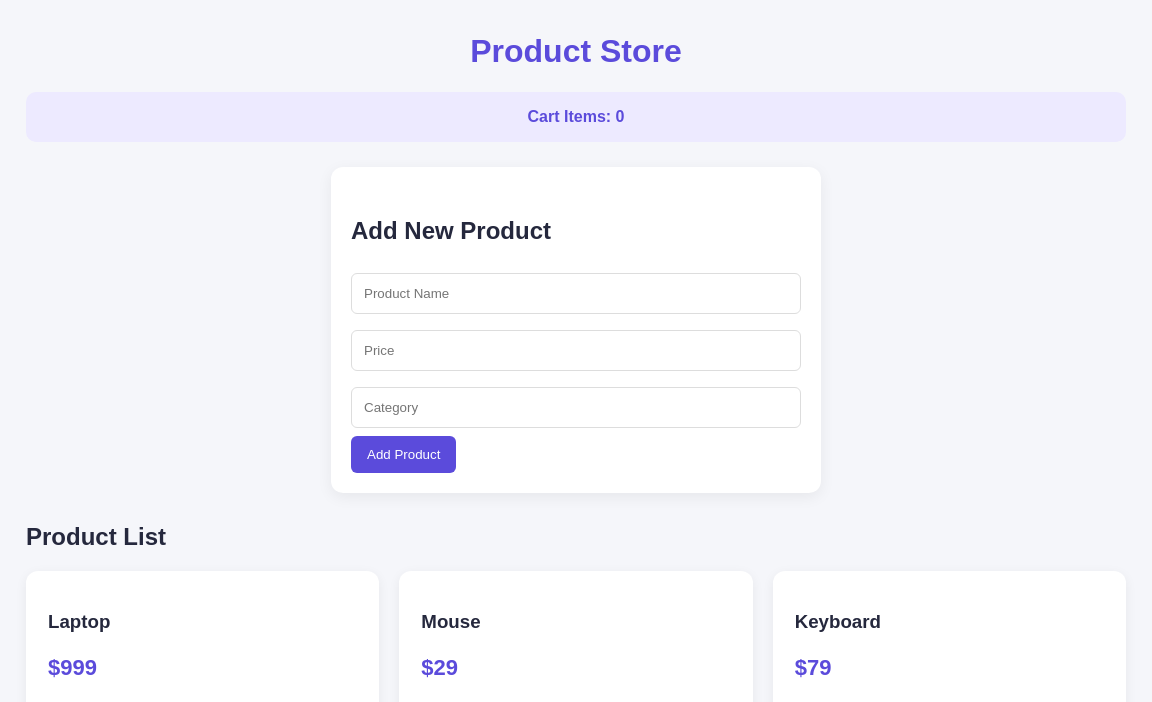
Test case: adds a product from the form
In the field with placeholder "Product Name": (576, 293) [351, 273, 801, 314], type "Monitor"
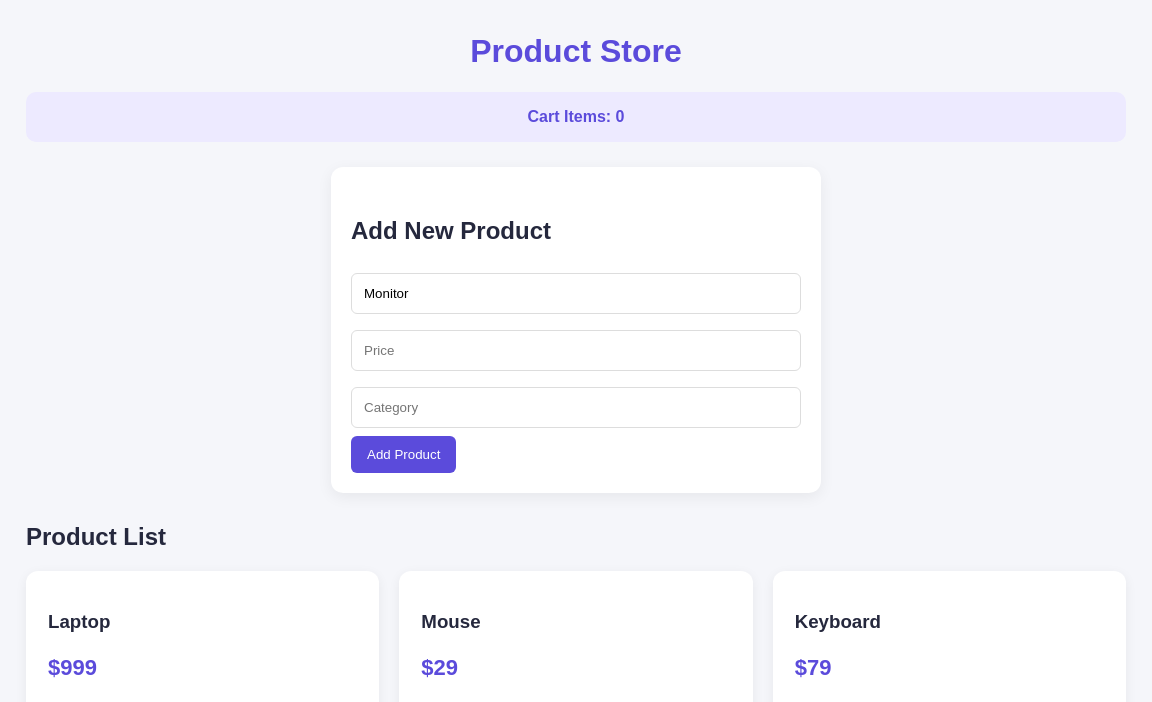
In the number field with placeholder "Price": (576, 350) [351, 330, 801, 371], type "249.99"
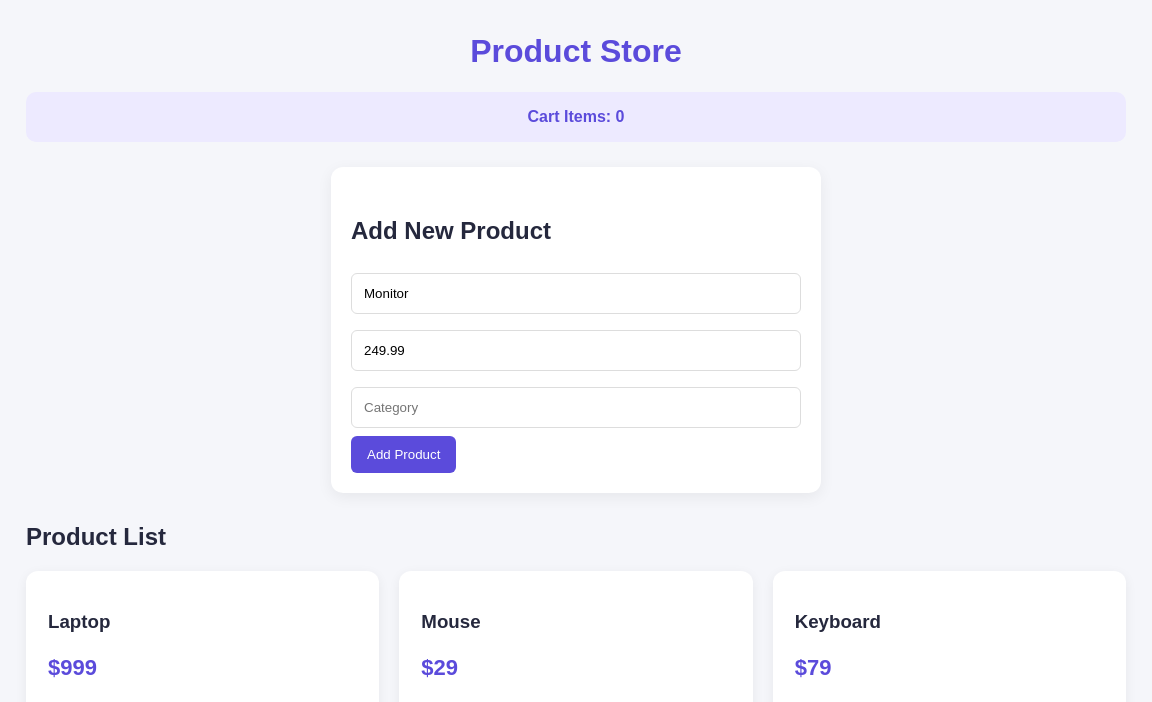
In the field with placeholder "Category": (576, 407) [351, 387, 801, 428], type "Electronics"
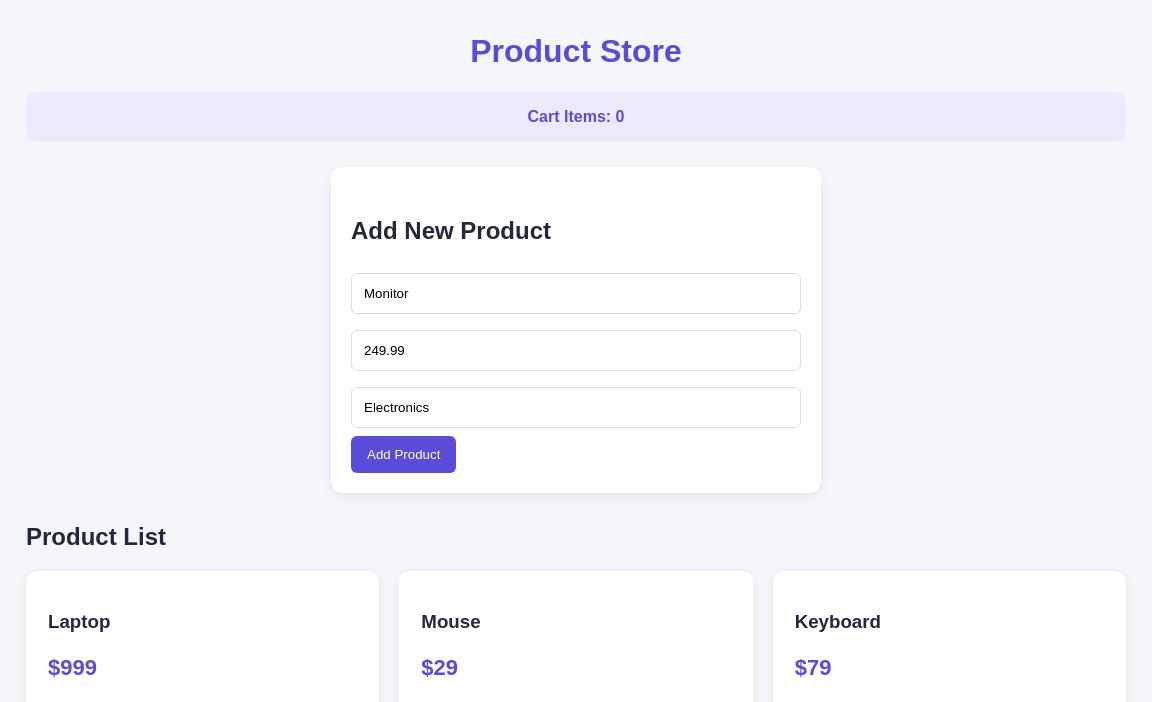
Click the button "Add Product": (404, 454) [351, 436, 456, 473]
(page scrolled)
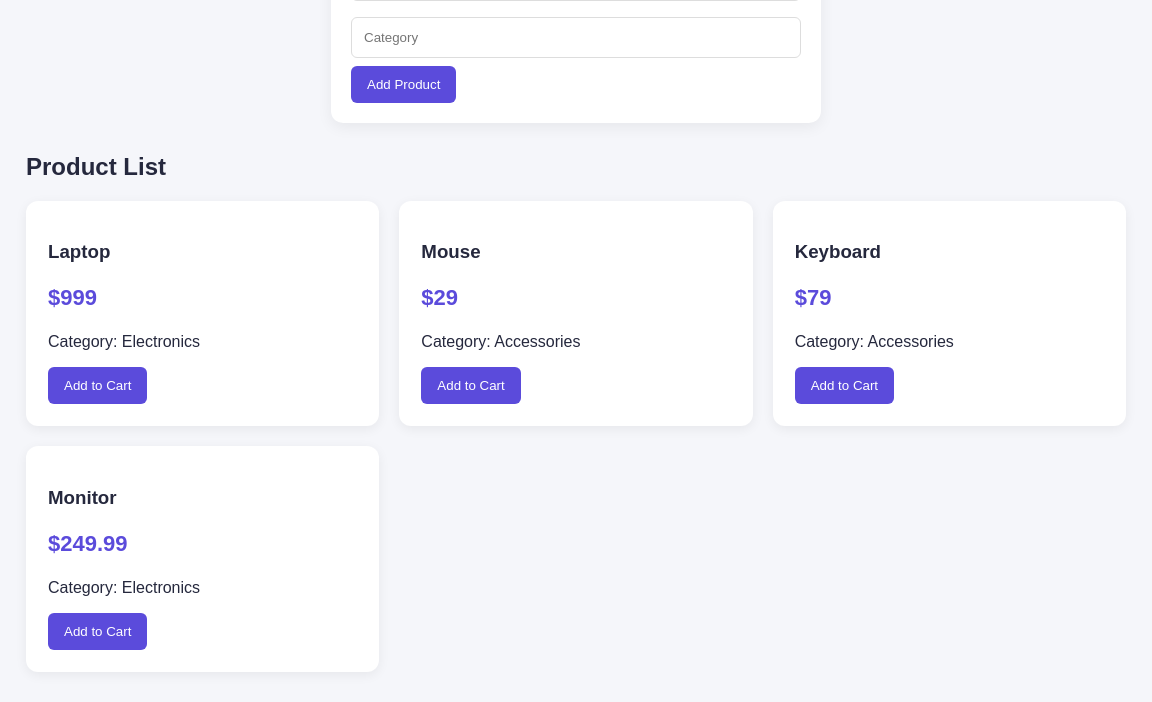
Expected: the heading "Monitor" is shown, [48, 487, 117, 508]
Expected: the text "$249.99" is shown, [48, 531, 128, 556]
